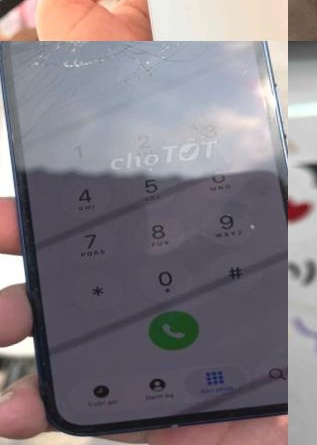physical_damage: (0, 41, 232, 103)
